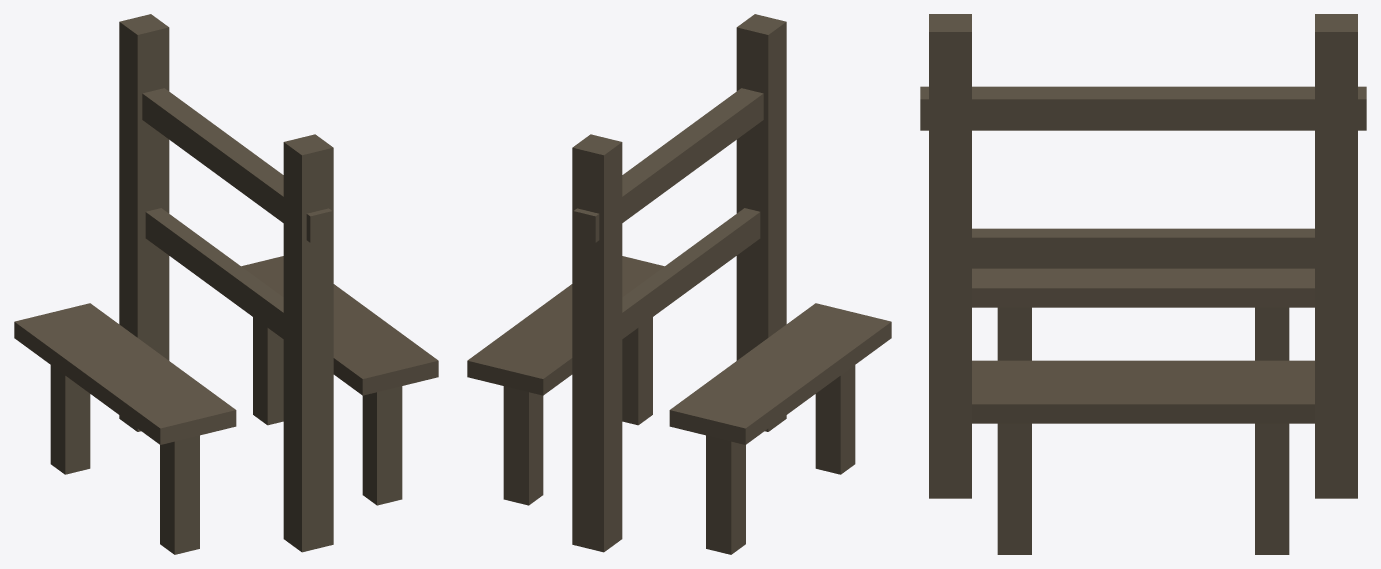
The model's file is SM_Prop_stile_0.glb.
The picture shows the model from 3 angles, left to right: view 1: azimuth 30°, elevation 25°; view 2: azimuth 150°, elevation 25°; view 3: azimuth 270°, elevation 25°; orthographic projection. The views are drawn at different scales.
Visible parts, largest first — view 1: SM_Prop_stile_0; view 2: SM_Prop_stile_0; view 3: SM_Prop_stile_0.
Part boxes in pixels (<box>): SM_Prop_stile_0: <box>14,14,438,554</box>; SM_Prop_stile_0: <box>467,14,891,554</box>; SM_Prop_stile_0: <box>920,14,1366,554</box>.
Size of the model in its own units: 0.88 by 1.2 by 1.04.
